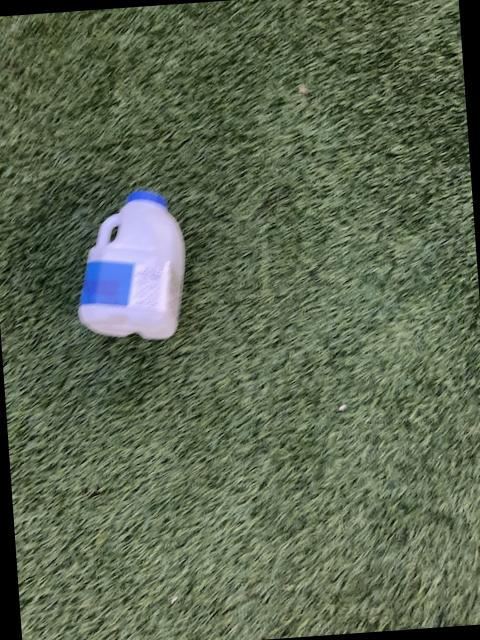plastic: (80, 189, 185, 337)
